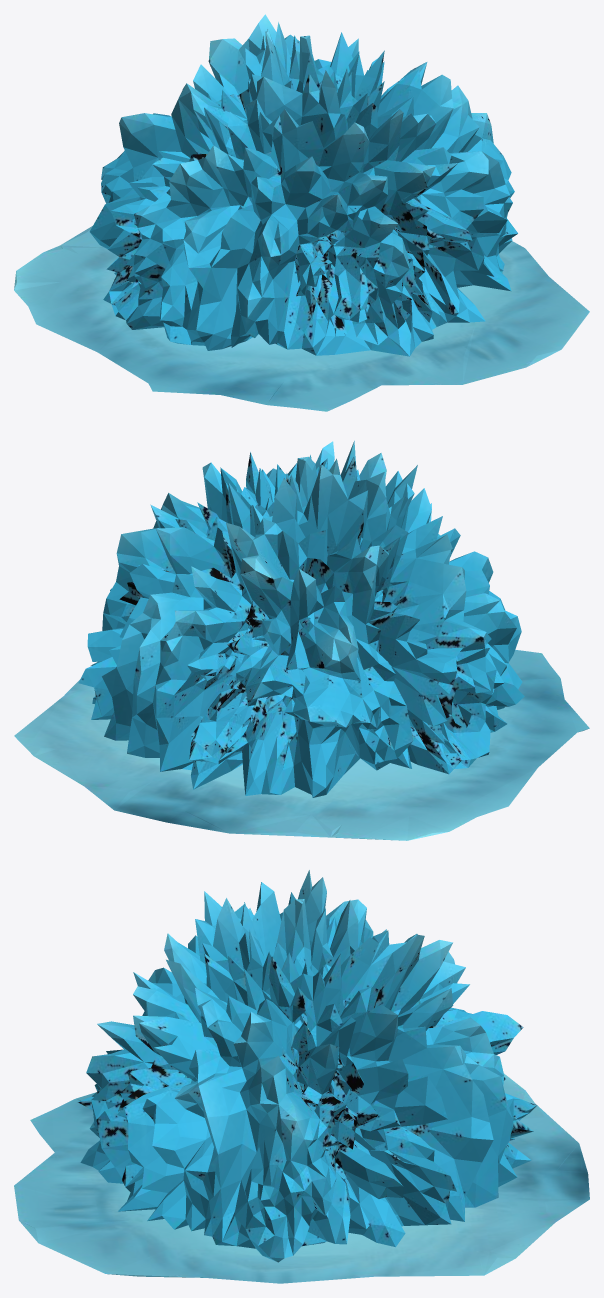
File: ice_spikes.glb
The picture shows the model from 3 angles, top to bottom: view 1: azimuth 30°, elevation 25°; view 2: azimuth 150°, elevation 25°; view 3: azimuth 270°, elevation 25°; orthographic projection. The views are drawn at different scales.
Parts seen in each view (by area): view 1: world; view 2: world; view 3: world.
Boxes of the visible parts, box(x1,y1,x2,y2) form: world: box(14, 14, 589, 411); world: box(14, 440, 589, 840); world: box(14, 870, 589, 1283).
Bounding box in the file's own units: 0.8287 × 0.4782 × 0.8703.
Materials: 1 (1 with a texture image).
